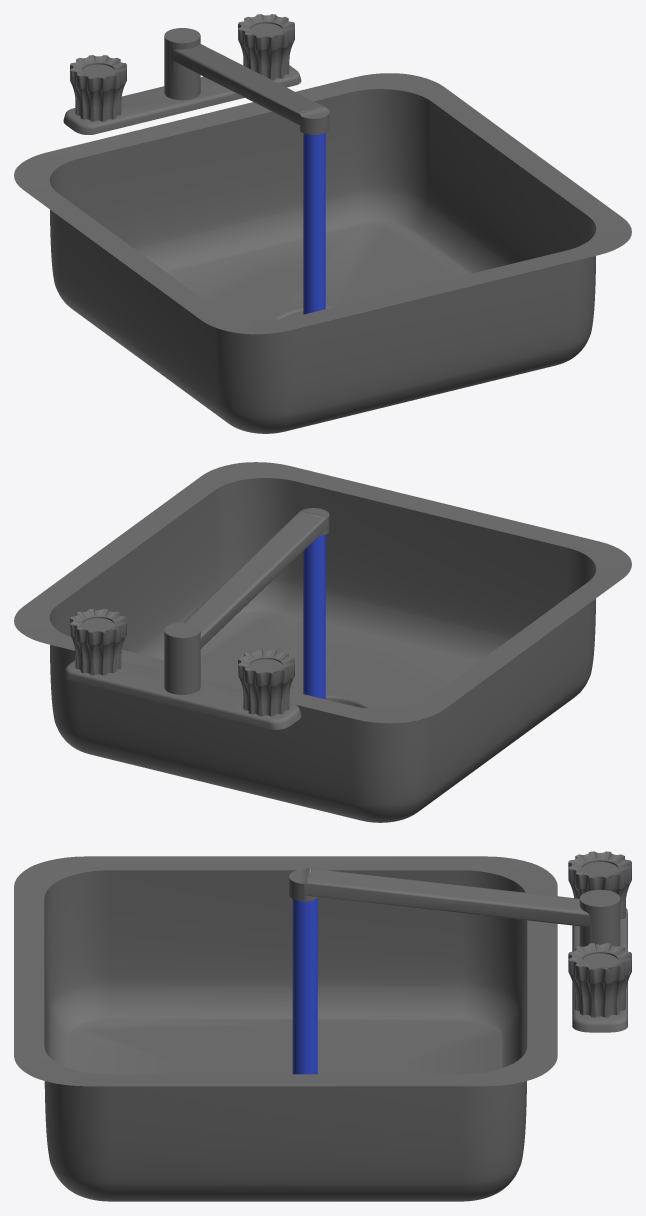
Rendered from water1.glb.
3 renders of one model, top to bottom at view 1: azimuth 30°, elevation 25°; view 2: azimuth 150°, elevation 25°; view 3: azimuth 270°, elevation 25°, orthographic. The views are drawn at different scales.
Visible parts, largest first — view 1: Material2.002, Material2.005, Material3; view 2: Material2.002, Material2.005, Material3; view 3: Material2.002, Material2.005, Material3.
Boxes of the visible parts, x1,y1,x2,y2 form: Material2.002: (14, 22, 631, 433); Material2.005: (70, 14, 294, 113); Material3: (303, 132, 325, 314); Material2.002: (14, 462, 631, 822); Material2.005: (70, 608, 294, 708); Material3: (303, 534, 325, 699); Material2.002: (14, 856, 627, 1201); Material2.005: (568, 851, 631, 1008); Material3: (292, 898, 317, 1074).
Size of the model in its own units: 20.06 by 10.77 by 22.8.
